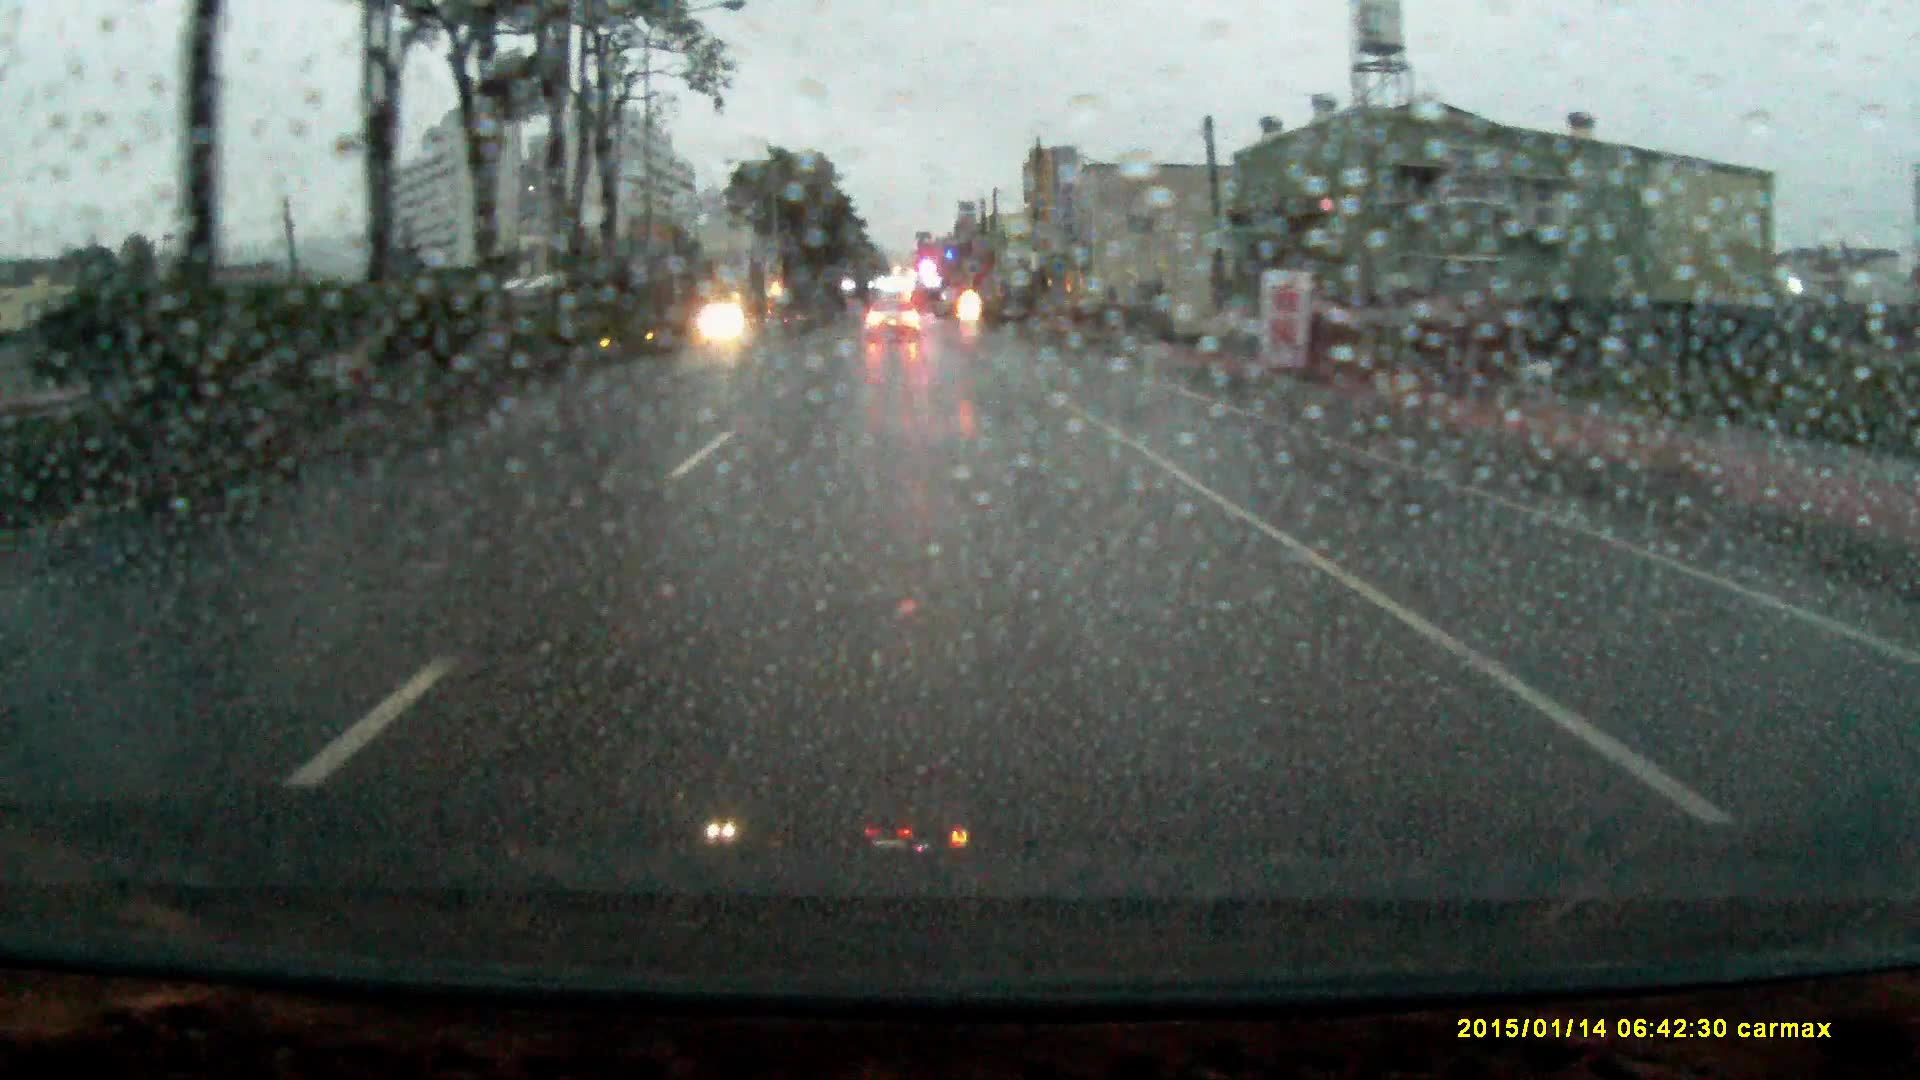vehicle: (866, 297, 920, 340)
